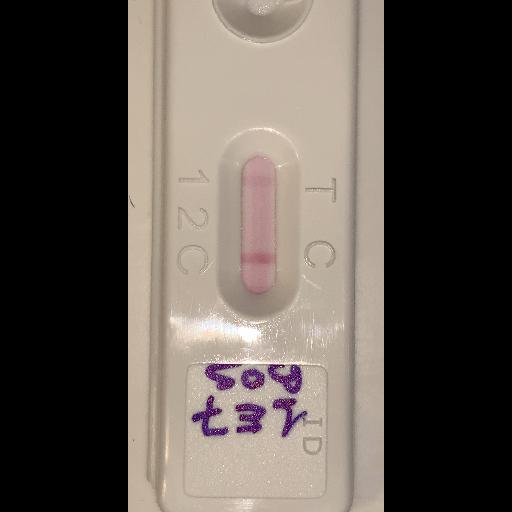Pos: (151, 0, 353, 511)
